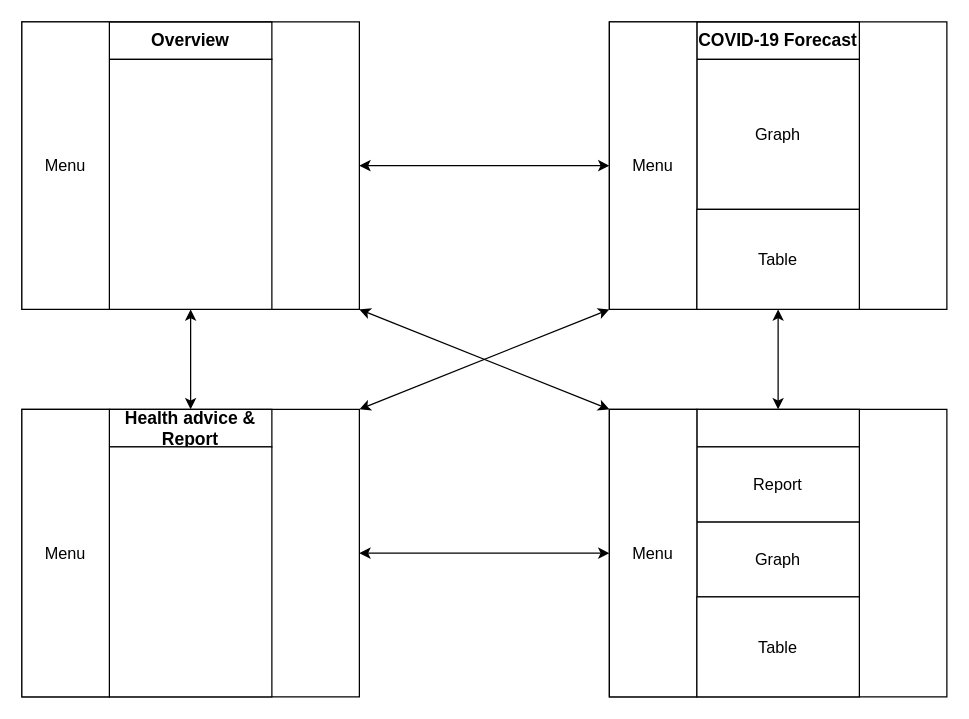
Image size: 969x719. Some labels were removed from this diagram. The shapes that lost their labels are listed below. From the top down, each one's box as (x1, y1, x2, y2) in pixels, then its label:
(108, 58, 272, 309): Introduction
(696, 408, 859, 447): COVID-19 Cases
(108, 446, 272, 697): tweets
